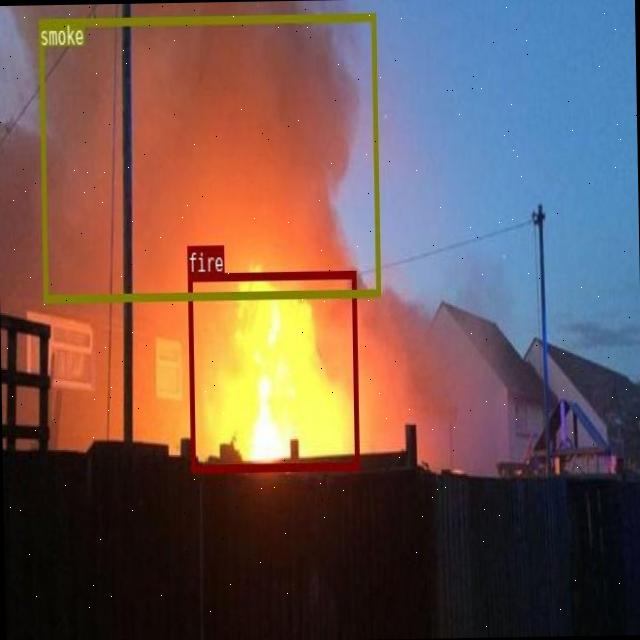fire: (188, 268, 358, 471)
smoke: (38, 13, 380, 301)
